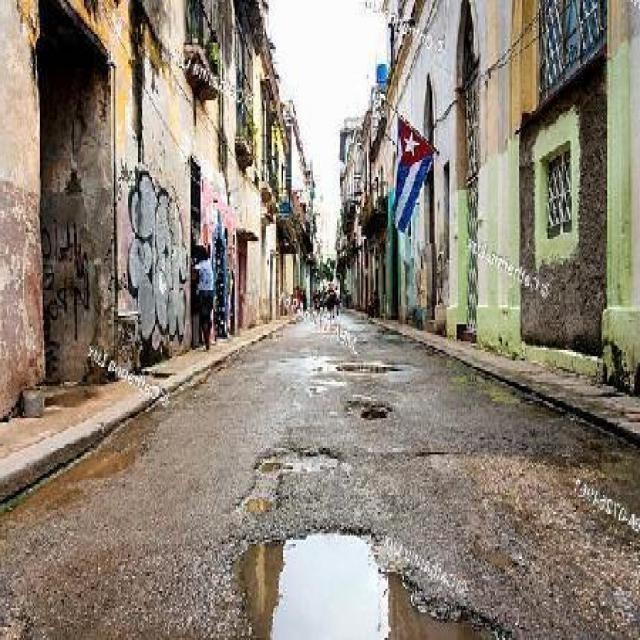buraco: (232, 521, 515, 637), (233, 520, 522, 632), (227, 444, 344, 522), (236, 439, 287, 516), (255, 439, 342, 474), (334, 356, 401, 376), (344, 394, 394, 420), (336, 358, 406, 374), (351, 399, 394, 425)
